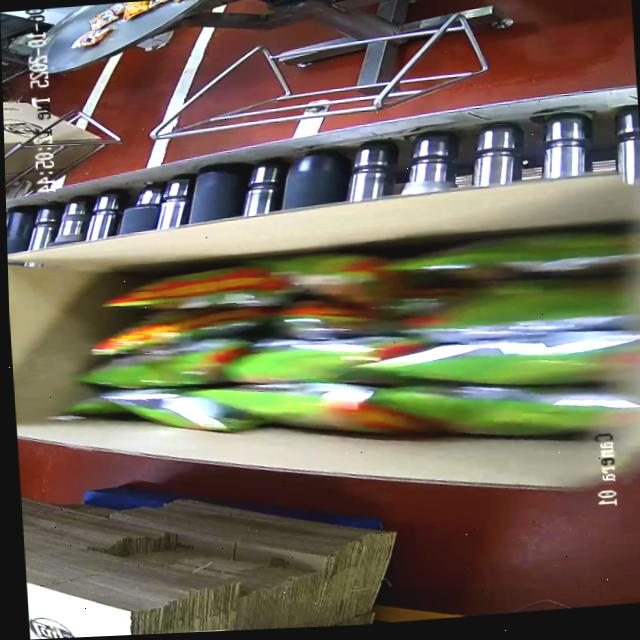YOGURT_HERB: (93, 222, 635, 473)
